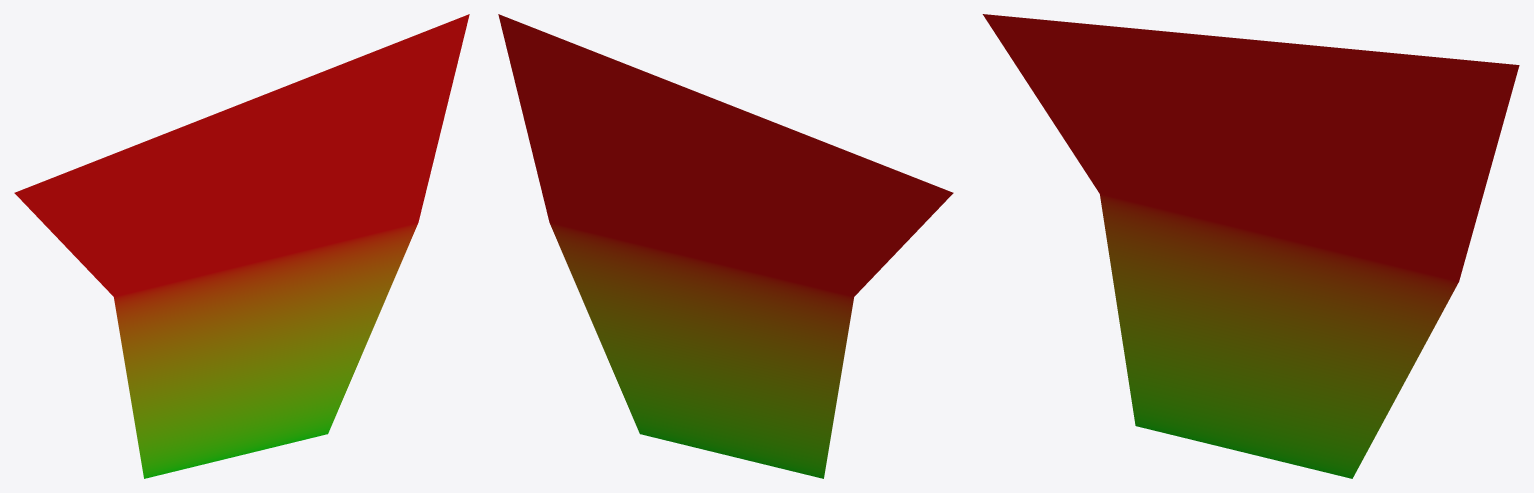
File: Areca Palm_LOD3_Var5_shFjC.fbx
3 renders of one model, left to right at view 1: azimuth 30°, elevation 25°; view 2: azimuth 150°, elevation 25°; view 3: azimuth 330°, elevation 25°, orthographic. The views are drawn at different scales.
Visible parts, largest first — view 1: _6315_Var5_LOD3; view 2: _6315_Var5_LOD3; view 3: _6315_Var5_LOD3.
Part boxes in pixels (left/top/right/bottom): _6315_Var5_LOD3: left=14, top=14, right=469, bottom=478; _6315_Var5_LOD3: left=498, top=14, right=953, bottom=478; _6315_Var5_LOD3: left=982, top=14, right=1519, bottom=478.
Size of the model in its own units: 323 by 261 by 6.2e-06.
